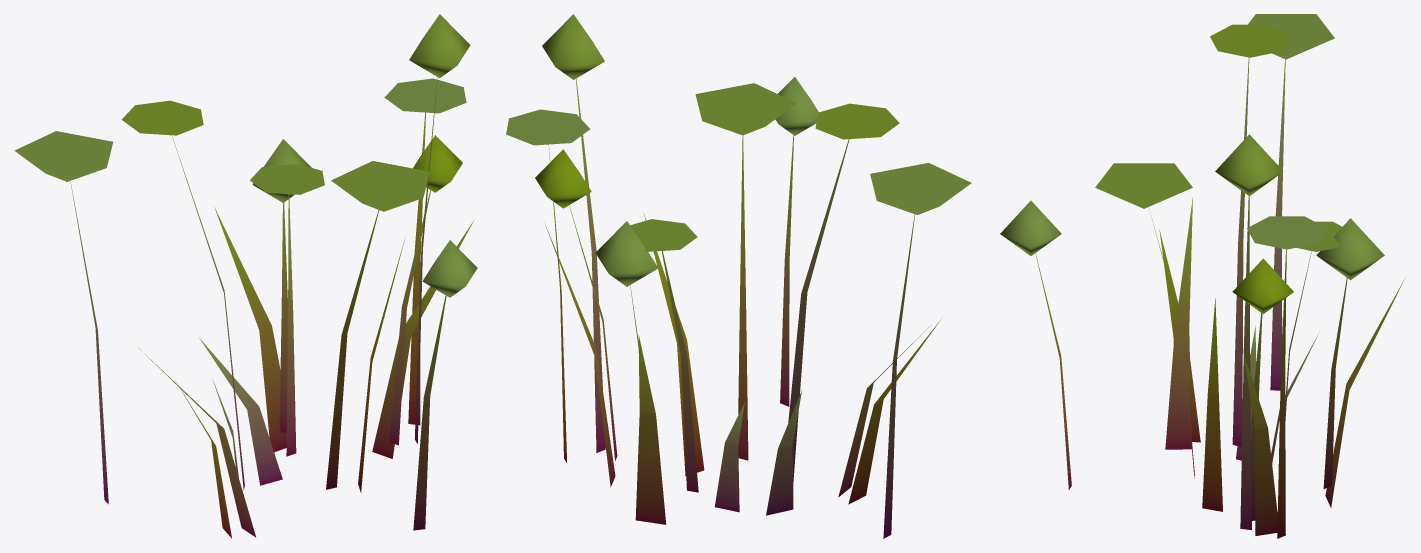
Rendered from veg_flowers_b.glb.
3 views of the same model, side by side, from view 1: azimuth 30°, elevation 25°; view 2: azimuth 150°, elevation 25°; view 3: azimuth 270°, elevation 25° (orthographic). The views are drawn at different scales.
Parts seen in each view (by area): view 1: veg_flowers_b_LOD0; view 2: veg_flowers_b_LOD0; view 3: veg_flowers_b_LOD0.
Part boxes in pixels (x1,y1,x2,y2): veg_flowers_b_LOD0: (14,14,477,538); veg_flowers_b_LOD0: (506,14,971,538); veg_flowers_b_LOD0: (1000,14,1404,538).
Size of what is drawn, in the model's own units: 0.2825 by 0.2714 by 0.2368.
